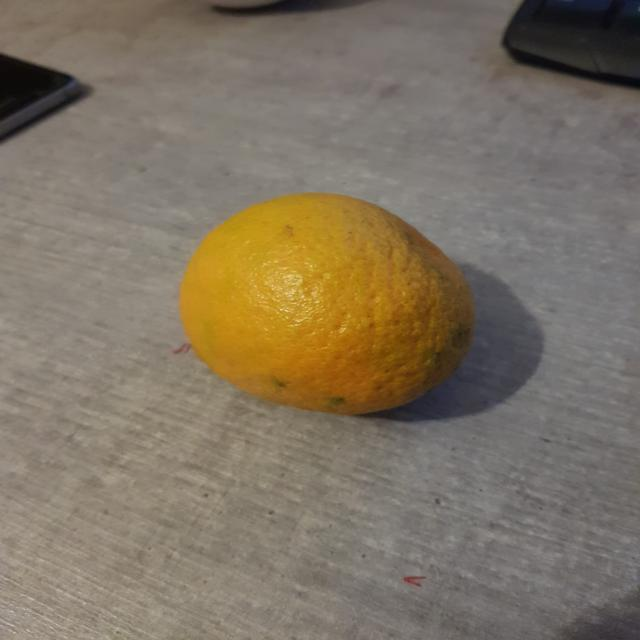Orange: (177, 193, 476, 417)
